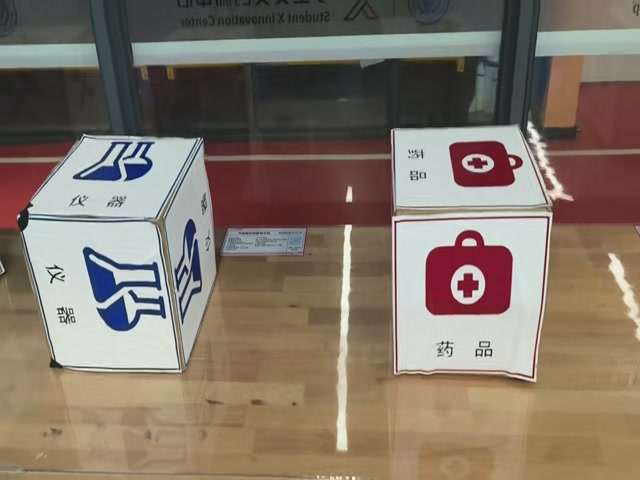Cube_ins: (24, 139, 210, 228)
Cube_medicine: (387, 129, 552, 222)
